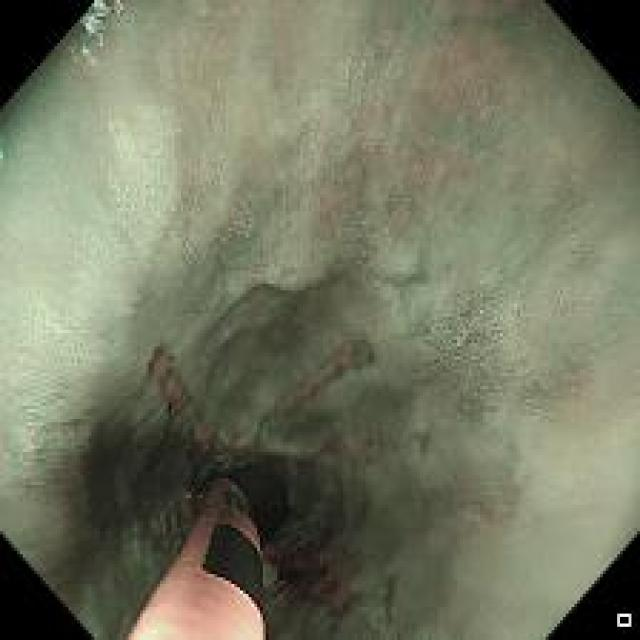blur: (172, 33, 541, 353)
color misalignment: (79, 0, 124, 68), (104, 119, 121, 149), (68, 42, 80, 65)
instrument: (123, 470, 276, 637)
